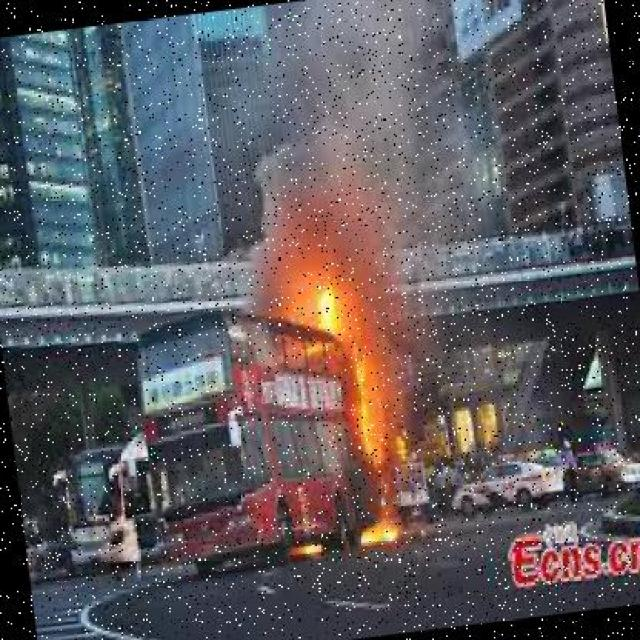fire: (290, 268, 404, 474), (275, 502, 331, 572), (340, 503, 402, 559)
